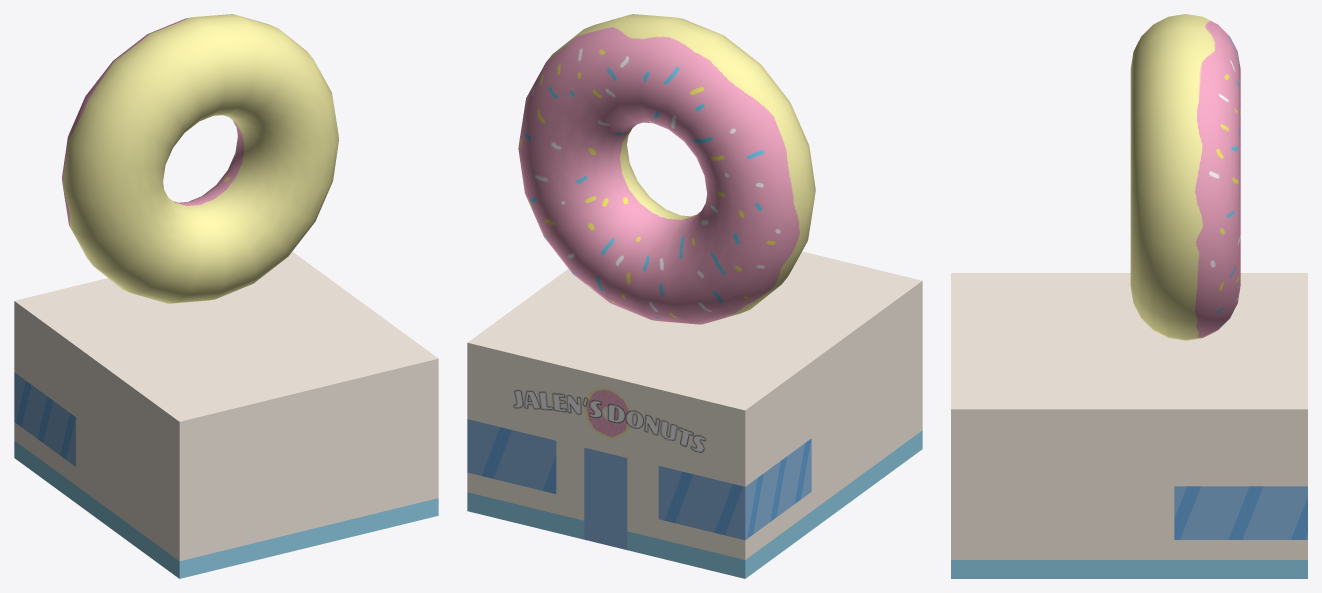
The model's file is Shop_withTexture.fbx.
The picture shows the model from 3 angles, left to right: view 1: azimuth 30°, elevation 25°; view 2: azimuth 150°, elevation 25°; view 3: azimuth 270°, elevation 25°; orthographic projection. The views are drawn at different scales.
Parts seen in each view (by area): view 1: pCube1, pTorus1; view 2: pCube1, pTorus1; view 3: pCube1, pTorus1.
Boxes of the visible parts, bbox=[...] form: pCube1: bbox=[14, 251, 438, 578]; pTorus1: bbox=[62, 14, 338, 303]; pCube1: bbox=[467, 251, 922, 578]; pTorus1: bbox=[518, 14, 815, 324]; pCube1: bbox=[951, 273, 1307, 578]; pTorus1: bbox=[1130, 14, 1240, 340].
Size of the model in its own units: 261 by 422 by 283.
Materials: 2 (2 with a texture image).
